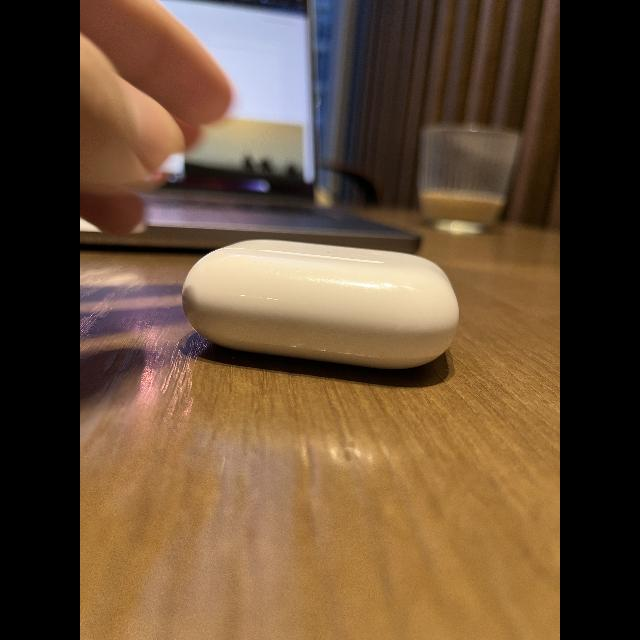AirPods Pro: (181, 232, 464, 388)
